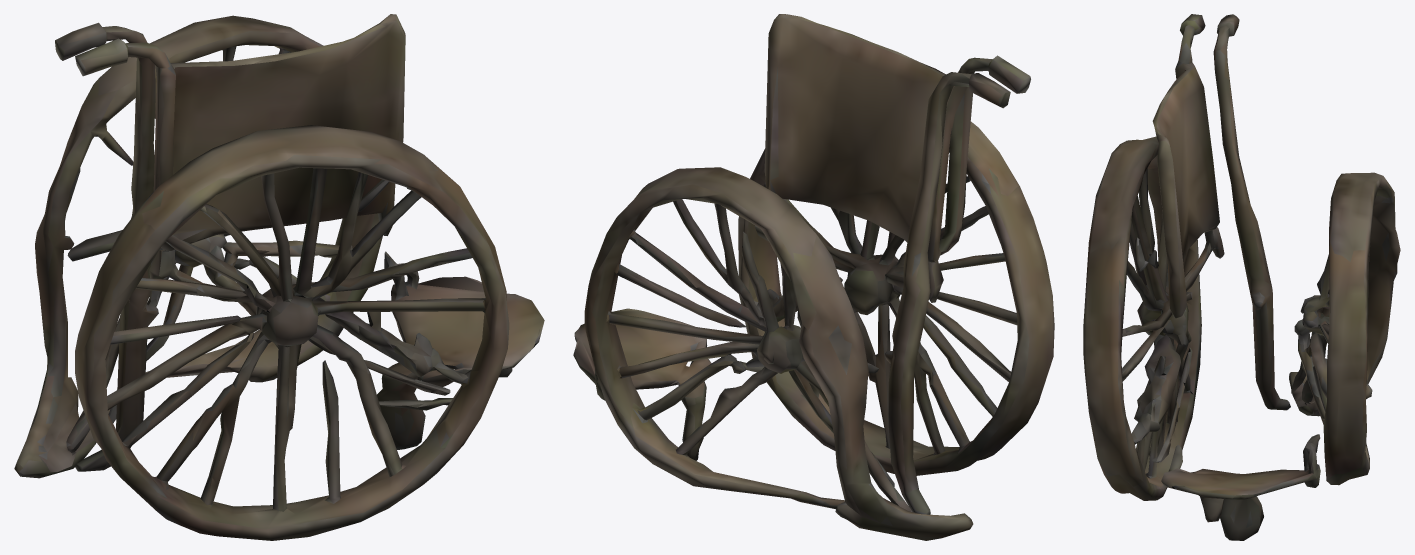
The model's file is plain-wood-wheelchair-v001.glb.
3 views of the same model, side by side, from view 1: azimuth 30°, elevation 25°; view 2: azimuth 150°, elevation 25°; view 3: azimuth 270°, elevation 25° (orthographic). The views are drawn at different scales.
Visible parts, largest first — view 1: plain-wood-wheelchair; view 2: plain-wood-wheelchair; view 3: plain-wood-wheelchair.
Boxes of the visible parts, <box> form: plain-wood-wheelchair: <box>14,14,544,540</box>; plain-wood-wheelchair: <box>573,14,1054,540</box>; plain-wood-wheelchair: <box>1083,14,1400,540</box>.
Size of the model in its own units: 1.03 by 1.03 by 0.7329.
1 material, 1 textured.
